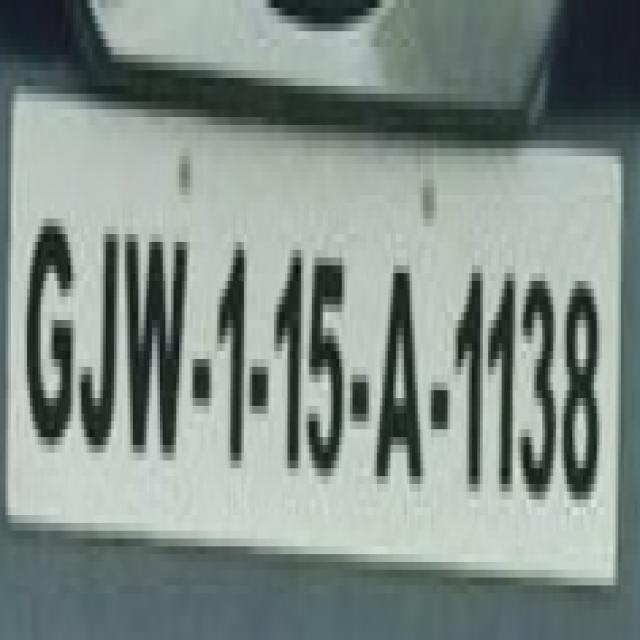1: (452, 249, 482, 502), (273, 233, 304, 477), (486, 264, 517, 504), (218, 222, 247, 477)
3: (518, 268, 556, 502)
5: (306, 234, 347, 477)
8: (562, 278, 600, 510)
A: (372, 239, 425, 502)
G: (19, 202, 74, 450)
J: (80, 216, 120, 464)
W: (124, 218, 188, 470)
